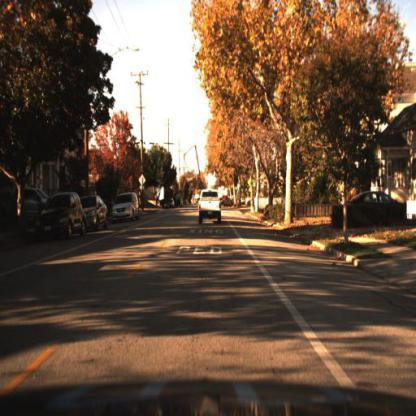car: (331, 185, 411, 233), (31, 189, 89, 246), (34, 190, 87, 242), (107, 188, 141, 230), (86, 190, 113, 234), (347, 189, 404, 209), (82, 194, 111, 229), (111, 193, 142, 224), (199, 187, 222, 224)
